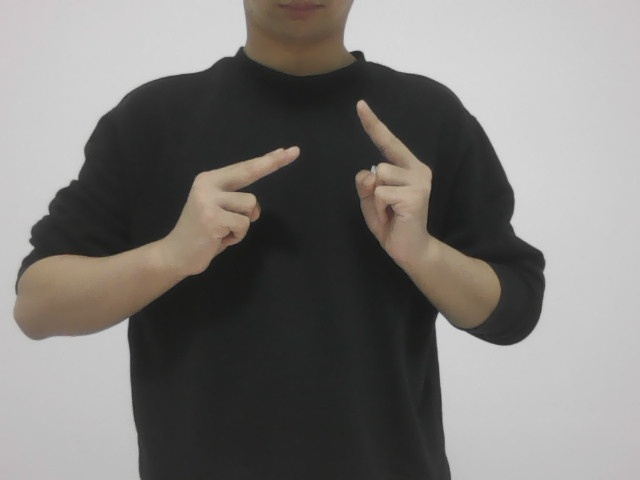know: (161, 95, 436, 302)
